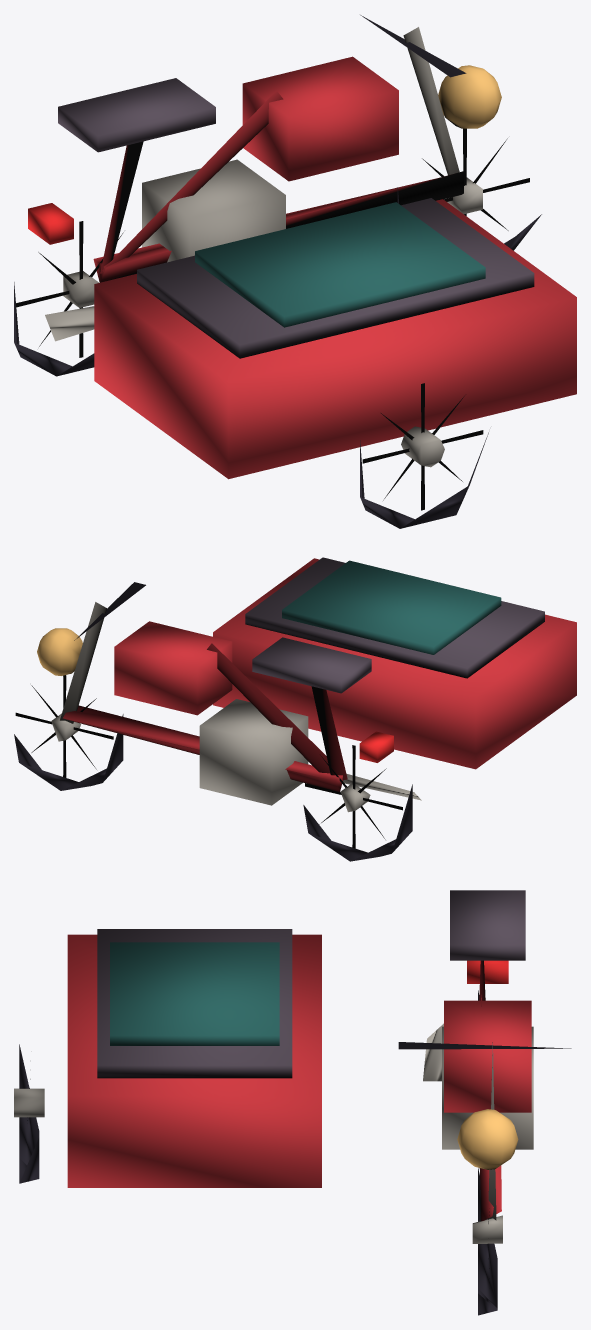
File: veh.courier-motorbike.lod1.glb
The picture shows the model from 3 angles, top to bottom: view 1: azimuth 30°, elevation 25°; view 2: azimuth 150°, elevation 25°; view 3: azimuth 270°, elevation 25°; orthographic projection. The views are drawn at different scales.
Parts seen in each view (by area): view 1: object 8, body, sidecar_wheel, lightsFront, wheel_rear, wheel_front, lightsBrake, handlebar; view 2: object 8, body, wheel_rear, wheel_front, lightsFront, lightsBrake, handlebar; view 3: object 8, body, lightsFront, sidecar_wheel, wheel_front, lightsBrake, handlebar.
Boxes of the visible parts, left/top/right/bottom form: object 8: left=94, top=198, right=576, bottom=479; body: left=45, top=27, right=463, bottom=341; sidecar_wheel: left=360, top=383, right=488, bottom=528; lightsFront: left=438, top=65, right=501, bottom=128; wheel_rear: left=14, top=221, right=123, bottom=376; wheel_front: left=397, top=128, right=541, bottom=250; lightsBrake: left=28, top=203, right=73, bottom=244; handlebar: left=360, top=15, right=466, bottom=77; object 8: left=213, top=557, right=576, bottom=769; body: left=60, top=602, right=421, bottom=805; wheel_rear: left=303, top=745, right=412, bottom=861; wheel_front: left=14, top=675, right=123, bottom=790; lightsFront: left=37, top=628, right=82, bottom=675; lightsBrake: left=359, top=731, right=393, bottom=762; handlebar: left=74, top=582, right=145, bottom=640; object 8: left=67, top=929, right=321, bottom=1187; body: left=423, top=890, right=533, bottom=1221; lightsFront: left=457, top=1109, right=518, bottom=1169; sidecar_wheel: left=14, top=1044, right=44, bottom=1183; wheel_front: left=472, top=1168, right=502, bottom=1315; lightsBrake: left=467, top=960, right=508, bottom=983; handlebar: left=398, top=1042, right=571, bottom=1049.
Bounding box in the file's own units: 2.28 × 1.07 × 2.21.
